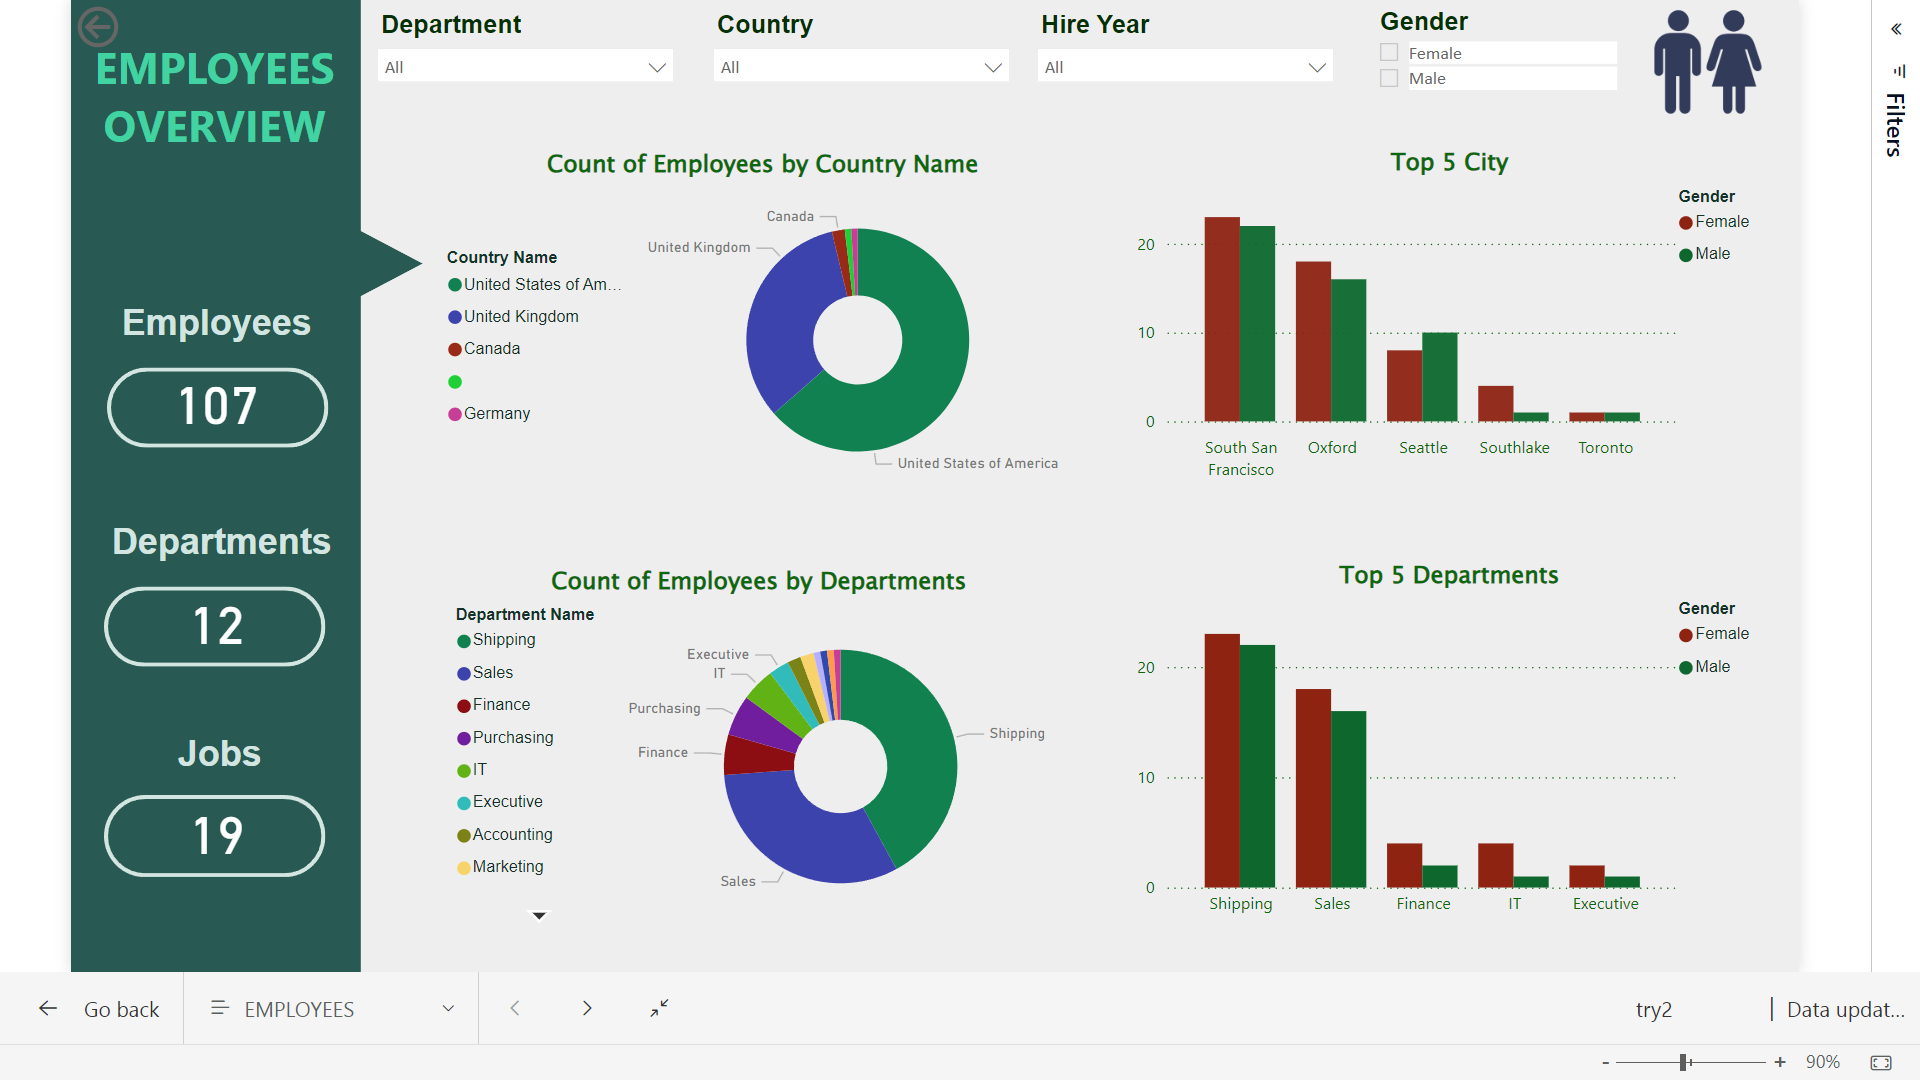

What the dashboard file says about the page in this screenshot:
{"tool":"powerbi","page":{"name":"EMPLOYEES","canvas":[1280,720],"ordinal":0},"visuals":[{"type":"shape","box":[0,0,214.7,720],"z":0},{"type":"shape","box":[202.1,164.2,58.4,61.6],"z":1000},{"type":"slicer","fields":{"Values":["dimension.Department Name"]},"box":[216.7,1.7,240,65],"z":2000},{"type":"slicer","fields":{"Values":["dimension.Year"]},"box":[705,1.7,240,81.7],"z":3000},{"type":"slicer","fields":{"Values":["dimension.Country Name"]},"box":[465,1.7,240,81.7],"z":4000},{"type":"slicer","fields":{"Values":["dimension.Gender"]},"box":[956.7,0,193.3,95],"z":5000},{"type":"image","box":[1148.3,1.7,126.7,86.7],"z":6000},{"type":"textbox","box":[7.8,21.9,206.2,104.6],"z":7000},{"type":"textbox","box":[25,218.7,167.1,46.9],"z":8000},{"type":"shape","box":[26.6,271.8,164,59.3],"z":9000},{"type":"shape","box":[25,434.2,164,59.3],"z":10000},{"type":"shape","box":[25,588.8,164,60.9],"z":11000},{"type":"card","fields":{"Values":["CountNonNull(dimension.Employee ID)"]},"box":[50,281.1,114,51.5],"z":12000},{"type":"card","fields":{"Values":["Count(dimension.Department Name)"]},"box":[37.5,438.9,139,62.5],"z":13000},{"type":"textbox","box":[26.6,537.3,167.1,46.9],"z":14000},{"type":"textbox","box":[15.6,381.1,192.1,46.9],"z":15000},{"type":"card","fields":{"Values":["Count(dimension.Job ID)"]},"box":[40.6,595.1,132.8,59.3],"z":16000},{"type":"clusteredColumnChart","title":"Top 5 City","fields":{"Series":["dimension.Gender"],"Y":["CountNonNull(dimension.Employee ID)"],"Category":["dimension.City"]},"box":[784,106.2,473.2,256.1],"z":17000},{"type":"actionButton","box":[0,0,100,40],"z":18000},{"type":"clusteredColumnChart","title":"Top 5 Departments","fields":{"Series":["dimension.Gender"],"Category":["dimension.Department Name"],"Y":["CountNonNull(dimension.Employee ID)"]},"box":[784,412.3,473.2,274.9],"z":19000},{"type":"donutChart","title":"Count of Employees by Country Name","fields":{"Category":["dimension.Country Name"],"Y":["CountNonNull(dimension.Employee ID)"]},"box":[273.3,107.8,477.9,260.8],"z":20000},{"type":"donutChart","title":"Count of Employees by Departments","fields":{"Category":["dimension.Department Name"],"Y":["CountNonNull(dimension.Employee ID)"]},"box":[279.6,417,459.2,274.9],"z":21000}]}

Visuals, with their boxes on the page's 1280x720 design canvas (x1, y1, x2, y2). These are canvas units, not pixel positions in the 1920x1080 screenshot, which may show the page scaled, cropped or inside an application window:
shape: x1=0 y1=0 x2=215 y2=720
shape: x1=202 y1=164 x2=260 y2=226
slicer - dimension.Department Name: x1=217 y1=2 x2=457 y2=67
slicer - dimension.Year: x1=705 y1=2 x2=945 y2=83
slicer - dimension.Country Name: x1=465 y1=2 x2=705 y2=83
slicer - dimension.Gender: x1=957 y1=0 x2=1150 y2=95
image: x1=1148 y1=2 x2=1275 y2=88
textbox: x1=8 y1=22 x2=214 y2=126
textbox: x1=25 y1=219 x2=192 y2=266
shape: x1=27 y1=272 x2=191 y2=331
shape: x1=25 y1=434 x2=189 y2=494
shape: x1=25 y1=589 x2=189 y2=650
card - CountNonNull(dimension.Employee ID): x1=50 y1=281 x2=164 y2=333
card - Count(dimension.Department Name): x1=38 y1=439 x2=176 y2=501
textbox: x1=27 y1=537 x2=194 y2=584
textbox: x1=16 y1=381 x2=208 y2=428
card - Count(dimension.Job ID): x1=41 y1=595 x2=173 y2=654
"Top 5 City" clusteredColumnChart: x1=784 y1=106 x2=1257 y2=362
actionButton: x1=0 y1=0 x2=100 y2=40
"Top 5 Departments" clusteredColumnChart: x1=784 y1=412 x2=1257 y2=687
"Count of Employees by Country Name" donutChart: x1=273 y1=108 x2=751 y2=369
"Count of Employees by Departments" donutChart: x1=280 y1=417 x2=739 y2=692
